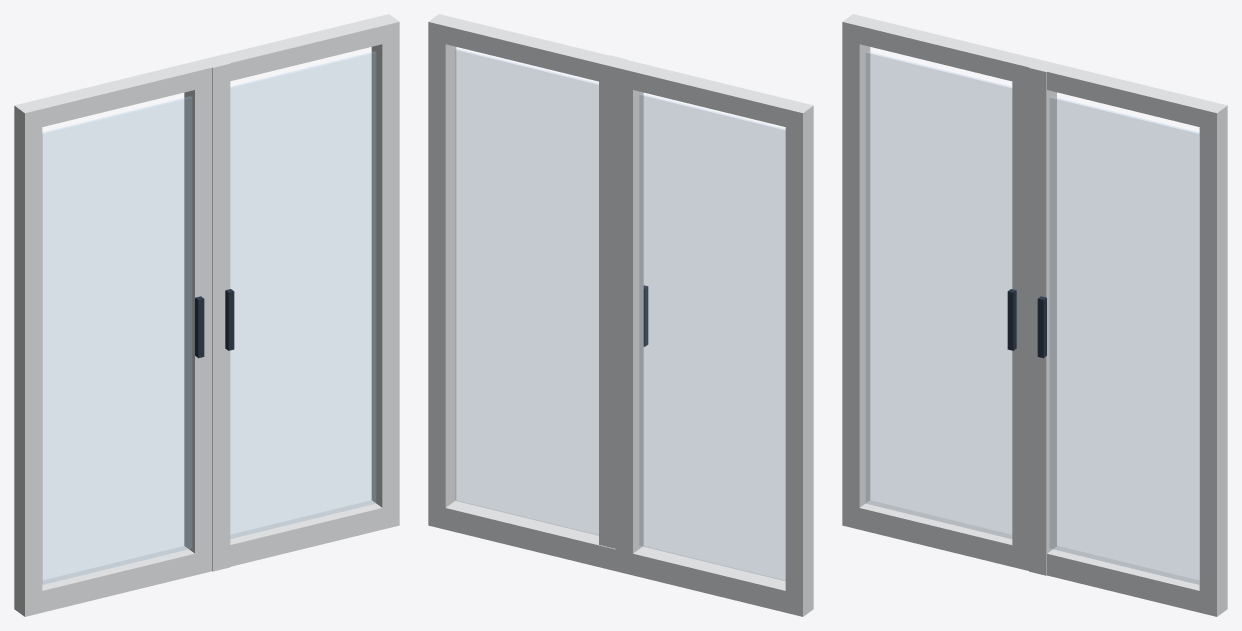
The model's file is patio_doors.glb.
The picture shows the model from 3 angles, left to right: view 1: azimuth 30°, elevation 25°; view 2: azimuth 150°, elevation 25°; view 3: azimuth 330°, elevation 25°; orthographic projection.
Parts seen in each view (by area): view 1: left_clear_glass_pane, right_clear_glass_pane, left_outer_frame, right_outer_frame, centre_meeting_frame_left, bottom_rail, top_frame, centre_meeting_frame_right, right_door_handle, left_door_handle; view 2: left_clear_glass_pane, right_clear_glass_pane, centre_meeting_frame_left, right_outer_frame, left_outer_frame, bottom_rail, top_frame, centre_meeting_frame_right; view 3: right_clear_glass_pane, left_clear_glass_pane, left_outer_frame, right_outer_frame, centre_meeting_frame_right, bottom_rail, top_frame, centre_meeting_frame_left, left_door_handle, right_door_handle.
Boxes of the visible parts, box(x1,y1,x2,y2) form: left_clear_glass_pane: box(42, 96, 191, 584); right_clear_glass_pane: box(230, 51, 375, 538); left_outer_frame: box(14, 106, 42, 616); right_outer_frame: box(371, 22, 399, 529); centre_meeting_frame_left: box(184, 67, 212, 575); bottom_rail: box(14, 500, 399, 615); top_frame: box(14, 14, 399, 130); centre_meeting_frame_right: box(212, 63, 230, 571); right_door_handle: box(225, 289, 234, 350); left_door_handle: box(195, 296, 204, 358); left_clear_glass_pane: box(639, 94, 785, 580); right_clear_glass_pane: box(455, 49, 598, 535); centre_meeting_frame_left: box(615, 68, 643, 575); right_outer_frame: box(428, 22, 456, 529); left_outer_frame: box(785, 104, 813, 616); bottom_rail: box(428, 500, 813, 615); top_frame: box(428, 14, 813, 131); centre_meeting_frame_right: box(599, 55, 626, 548); right_clear_glass_pane: box(1050, 96, 1199, 584); left_clear_glass_pane: box(866, 51, 1011, 538); left_outer_frame: box(842, 22, 870, 529); right_outer_frame: box(1199, 106, 1227, 616); centre_meeting_frame_right: box(1029, 67, 1056, 575); bottom_rail: box(842, 500, 1227, 615); top_frame: box(842, 14, 1227, 131); centre_meeting_frame_left: box(1012, 64, 1028, 570); left_door_handle: box(1007, 289, 1016, 350); right_door_handle: box(1037, 296, 1046, 358).
Bounding box in the file's own units: 1.62 × 2.08 × 0.1105.
